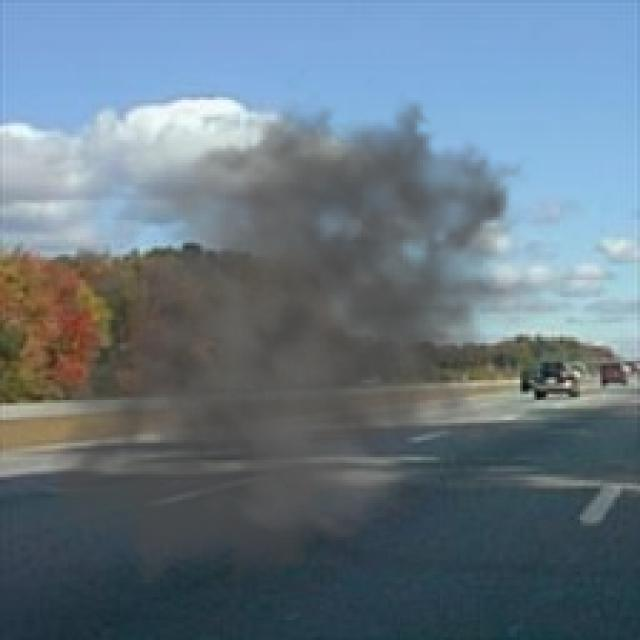smoke: (11, 66, 552, 623)
